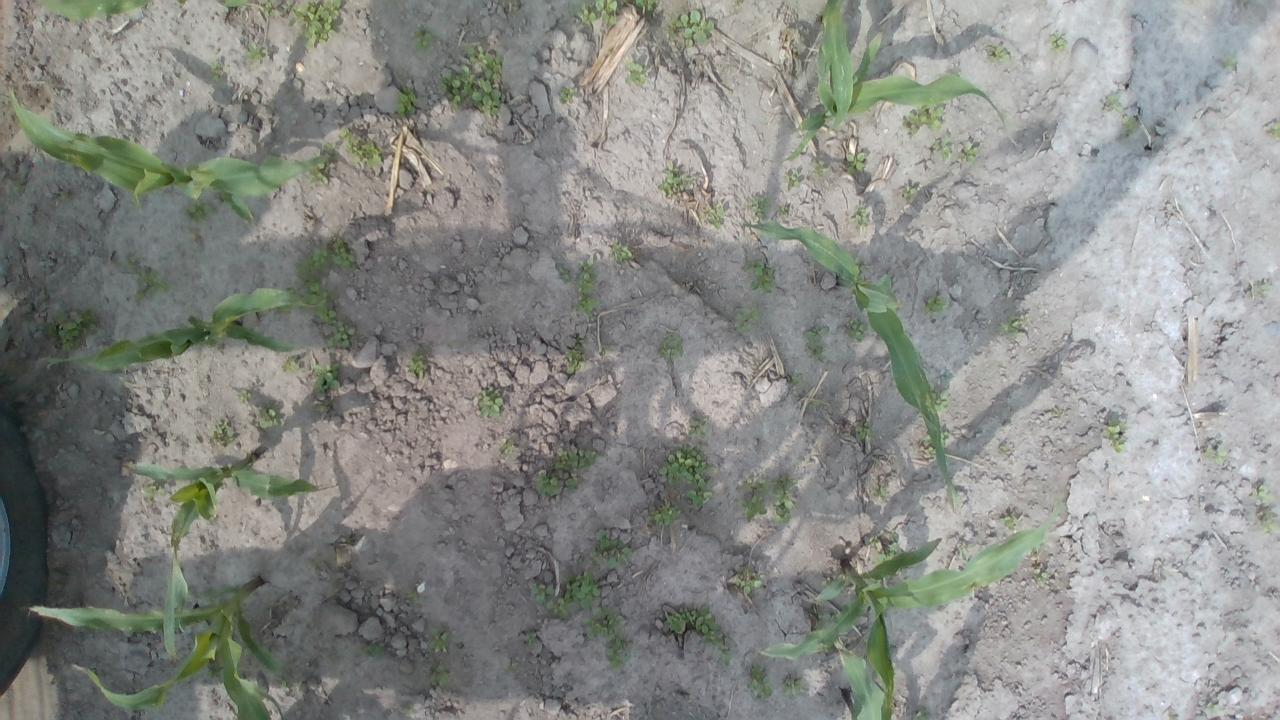Maize: (761, 503, 1062, 720), (741, 219, 964, 510), (9, 85, 332, 225), (129, 445, 320, 656), (32, 574, 286, 720), (787, 33, 1011, 162), (46, 289, 321, 372), (42, 0, 248, 28), (820, 0, 856, 129), (833, 642, 887, 720)
Weeds: (438, 46, 502, 117), (736, 476, 798, 523), (664, 605, 722, 649), (656, 446, 714, 487), (126, 255, 172, 306), (43, 309, 97, 352), (302, 0, 343, 48), (666, 10, 716, 48), (590, 528, 632, 570), (303, 280, 337, 324), (582, 606, 624, 641), (901, 103, 945, 136), (564, 571, 602, 609), (574, 257, 598, 314), (570, 0, 618, 26), (294, 248, 332, 280), (657, 164, 694, 194), (554, 447, 596, 472), (749, 260, 777, 296), (748, 663, 774, 700), (804, 326, 830, 363), (346, 142, 384, 166), (1105, 418, 1130, 454), (605, 640, 632, 672), (734, 307, 764, 335), (648, 504, 682, 528), (534, 468, 562, 496), (314, 362, 338, 394), (478, 388, 503, 418), (184, 200, 216, 223), (209, 419, 234, 448), (527, 581, 556, 605), (394, 87, 418, 116), (332, 239, 353, 270), (255, 403, 280, 428), (304, 164, 328, 190), (327, 324, 351, 350), (688, 487, 714, 511), (427, 628, 448, 657), (241, 42, 268, 64), (736, 572, 762, 594), (624, 62, 646, 86), (704, 206, 726, 230), (661, 335, 683, 359), (877, 540, 898, 565), (544, 598, 568, 619), (999, 315, 1023, 336), (564, 350, 584, 375), (285, 0, 304, 26), (407, 351, 426, 377), (414, 26, 434, 50), (934, 134, 952, 160), (922, 296, 948, 314), (7, 182, 30, 202), (1204, 446, 1228, 465), (846, 320, 864, 344), (1047, 32, 1068, 52), (750, 195, 770, 216), (611, 243, 632, 263), (206, 657, 224, 680), (846, 152, 864, 175), (208, 60, 225, 82), (990, 44, 1009, 63), (558, 86, 578, 104), (854, 422, 874, 440), (428, 670, 449, 687), (932, 390, 948, 412), (720, 647, 734, 672), (783, 678, 801, 697), (1254, 484, 1272, 503), (1104, 95, 1122, 113), (784, 170, 800, 190), (1032, 567, 1050, 584), (337, 127, 353, 146), (962, 143, 978, 162), (854, 206, 870, 225), (1263, 517, 1280, 534), (281, 356, 298, 373), (688, 420, 705, 437), (924, 432, 936, 456), (634, 0, 656, 13), (143, 483, 165, 496), (810, 162, 830, 176), (998, 514, 1016, 529), (1122, 114, 1136, 133), (1247, 286, 1269, 298), (1223, 54, 1237, 70), (366, 644, 384, 656), (1269, 121, 1280, 139), (238, 389, 253, 402), (864, 534, 880, 546), (902, 184, 914, 200), (52, 191, 71, 201), (998, 444, 1010, 458), (263, 0, 273, 16), (912, 710, 928, 720), (501, 440, 512, 454), (574, 335, 584, 350), (526, 630, 538, 642), (560, 267, 570, 281), (874, 487, 889, 496), (279, 676, 289, 688), (1206, 703, 1216, 715), (566, 479, 576, 490), (790, 375, 801, 385), (941, 430, 950, 441), (1051, 408, 1062, 417), (216, 190, 224, 201), (323, 144, 336, 150), (408, 592, 417, 600), (778, 207, 788, 214)
